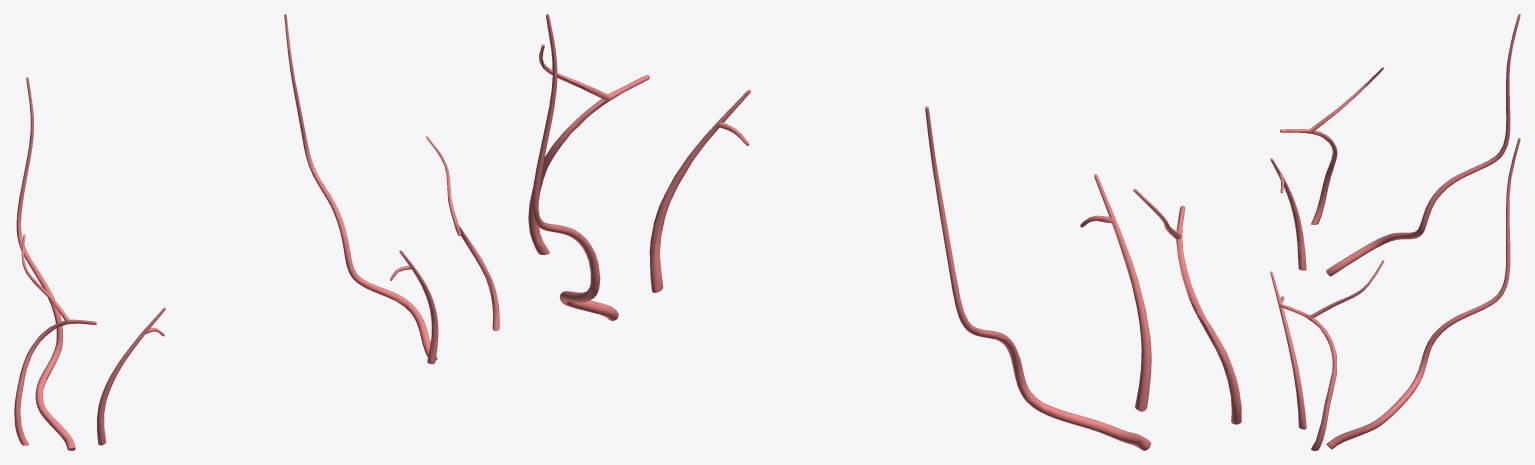
File: arteres-cou.hi.glb
3 renders of one model, left to right at view 1: azimuth 30°, elevation 25°; view 2: azimuth 150°, elevation 25°; view 3: azimuth 270°, elevation 25°, orthographic. The views are drawn at different scales.
Parts seen in each view (by area): view 1: FJ2226, FJ2278, FJ2308, FJ2256, FJ2209, FJ2210; view 2: FJ2278, FJ2226, FJ2209, FJ2308, FJ2210, FJ2256; view 3: FJ2226, FJ2278, FJ2256, FJ2308, FJ2210, FJ2209.
Boxes of the visible parts, x1,y1,x2,y2 form: FJ2226: (284, 14, 437, 360); FJ2278: (16, 77, 75, 450); FJ2308: (14, 234, 96, 445); FJ2256: (426, 136, 499, 330); FJ2209: (97, 307, 165, 445); FJ2210: (390, 250, 438, 364); FJ2278: (925, 106, 1151, 450); FJ2226: (531, 14, 618, 320); FJ2209: (1080, 174, 1151, 411); FJ2308: (1133, 189, 1241, 424); FJ2210: (649, 89, 750, 292); FJ2256: (528, 44, 649, 254); FJ2226: (1326, 138, 1520, 449); FJ2278: (1326, 14, 1520, 276); FJ2256: (1280, 260, 1383, 450); FJ2308: (1280, 67, 1384, 224); FJ2210: (1270, 271, 1306, 429); FJ2209: (1270, 158, 1306, 270).
Size of the model in its own units: 0.1233 by 0.0711 by 0.0563.
